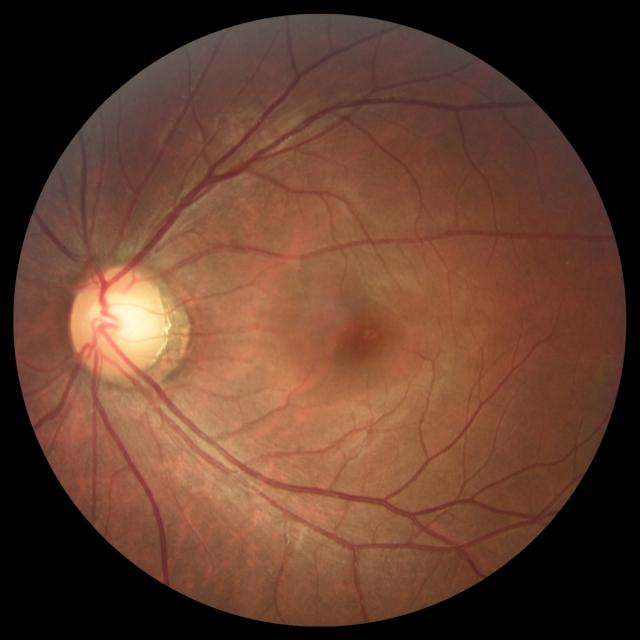OC: (92, 288, 152, 354)
OD: (72, 267, 168, 378)
